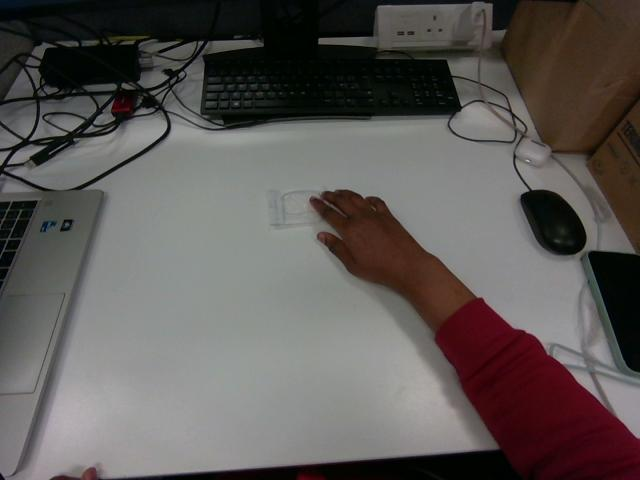gauze: (268, 190, 321, 226)
